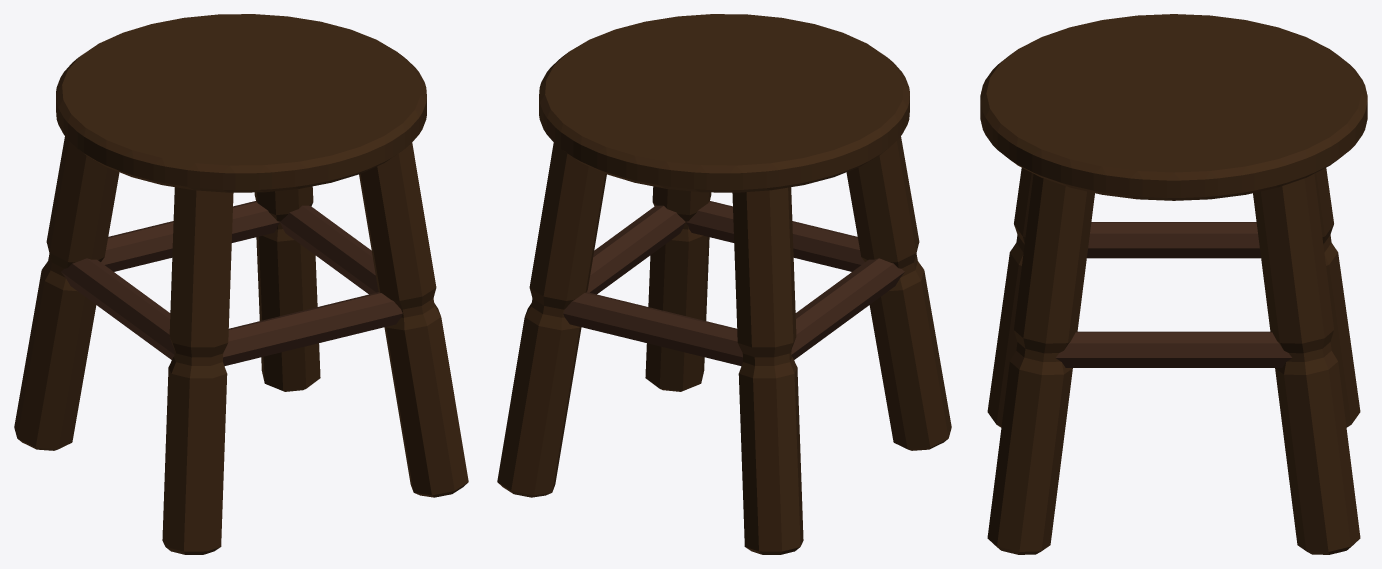
The model's file is tabouret.glb.
3 views of the same model, side by side, from view 1: azimuth 30°, elevation 25°; view 2: azimuth 150°, elevation 25°; view 3: azimuth 270°, elevation 25° (orthographic). The views are drawn at different scales.
Parts seen in each view (by area): view 1: Cube; view 2: Cube; view 3: Cube.
Boxes of the visible parts, bbox=[...] form: Cube: bbox=[14, 14, 468, 554]; Cube: bbox=[497, 14, 951, 554]; Cube: bbox=[980, 14, 1367, 554].
Size of the model in its own units: 0.9826 by 1.1 by 0.9826.
Materials: 1 (1 with a texture image).
